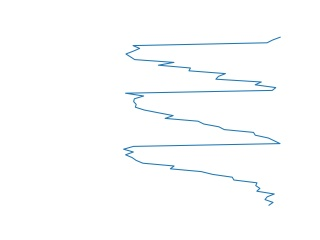distributaryMouthBar: (120, 34, 283, 208)
